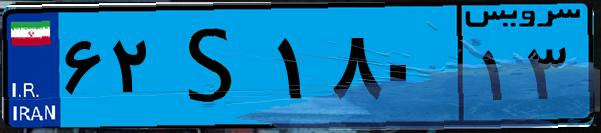0: (385, 28, 445, 110)
1: (270, 28, 330, 110), (475, 38, 525, 113)
2: (110, 28, 158, 98)
3: (525, 38, 570, 115)
6: (57, 26, 110, 100)
8: (330, 28, 385, 110)
S: (158, 12, 270, 120)
